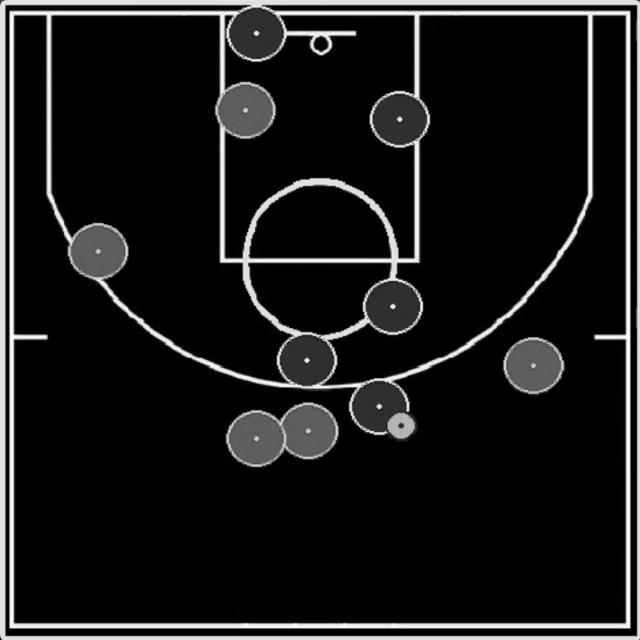Basketball: (387, 412, 416, 441)
Team_A: (370, 91, 430, 148), (350, 379, 410, 435), (226, 5, 286, 61), (363, 279, 423, 335), (277, 332, 337, 388)
Team_B: (68, 222, 128, 281), (503, 338, 564, 395), (226, 410, 285, 468), (216, 82, 275, 139), (281, 402, 338, 459)
